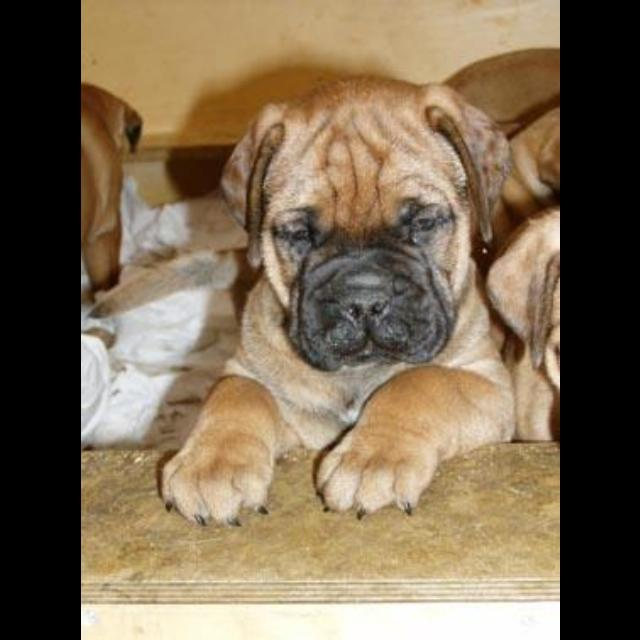bullmastiff: (156, 73, 516, 528)
